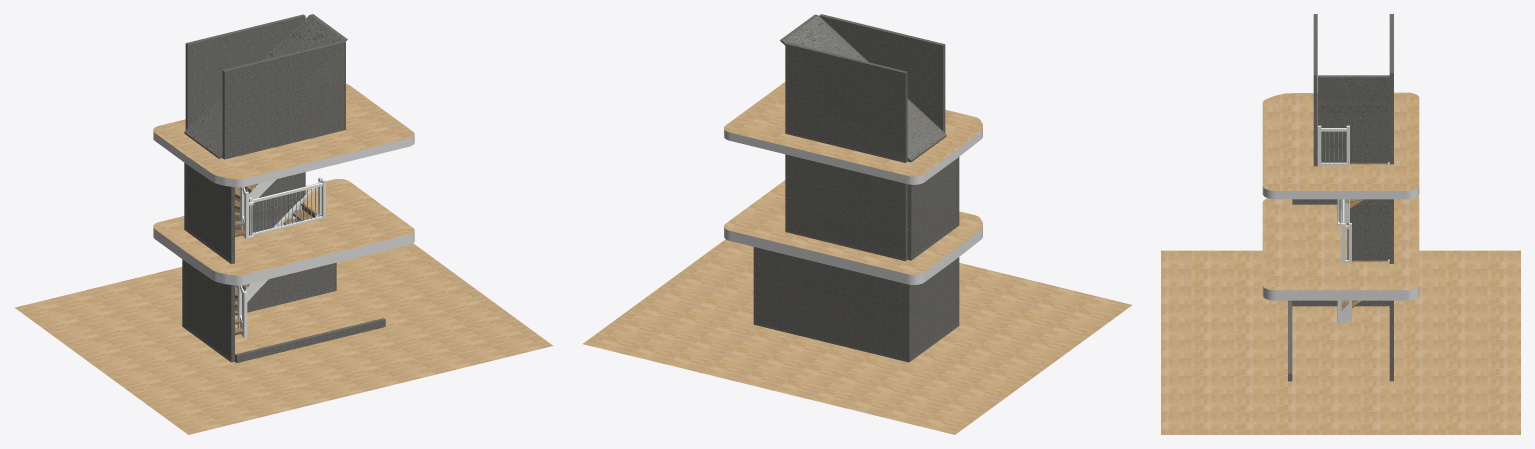
The picture shows the model from 3 angles, left to right: view 1: azimuth 30°, elevation 25°; view 2: azimuth 150°, elevation 25°; view 3: azimuth 270°, elevation 25°; orthographic projection. The views are drawn at different scales.
Parts seen in each view (by area): view 1: _x0023_OBJECT3Dcon_parkett.jpg1111, _x0023_BEGIN_WALLbeton1.jpg1110_x002C_3, _x0023_OBJECT3D0_x002C_90_x002C_90_x002C_91, _x0023_POST0_x002C_980_x002C_980_x002C_951, _x0023_BALUSTERcon_rostf.jpg1111, _x0023_TREADcon_ek.jpg1111; view 2: _x0023_OBJECT3Dcon_parkett.jpg1111, _x0023_BEGIN_WALLbeton1.jpg1110_x002C_3, _x0023_OBJECT3D0_x002C_90_x002C_90_x002C_91; view 3: _x0023_OBJECT3Dcon_parkett.jpg1111, _x0023_BEGIN_WALLbeton1.jpg1110_x002C_3, _x0023_OBJECT3D0_x002C_90_x002C_90_x002C_91, _x0023_POST0_x002C_980_x002C_980_x002C_951, _x0023_BEGIN_OPENINGbeton1.jpg1111, _x0023_TREADcon_ek.jpg1111.
Part boxes in pixels (left/top/right/bottom): _x0023_OBJECT3Dcon_parkett.jpg1111: left=15, top=83, right=552, bottom=434; _x0023_BEGIN_WALLbeton1.jpg1110_x002C_3: left=182, top=14, right=385, bottom=362; _x0023_OBJECT3D0_x002C_90_x002C_90_x002C_91: left=153, top=131, right=414, bottom=285; _x0023_POST0_x002C_980_x002C_980_x002C_951: left=237, top=177, right=325, bottom=337; _x0023_BALUSTERcon_rostf.jpg1111: left=187, top=100, right=319, bottom=320; _x0023_TREADcon_ek.jpg1111: left=235, top=184, right=317, bottom=333; _x0023_OBJECT3Dcon_parkett.jpg1111: left=583, top=82, right=1131, bottom=434; _x0023_BEGIN_WALLbeton1.jpg1110_x002C_3: left=753, top=14, right=959, bottom=362; _x0023_OBJECT3D0_x002C_90_x002C_90_x002C_91: left=724, top=129, right=982, bottom=284; _x0023_OBJECT3Dcon_parkett.jpg1111: left=1161, top=92, right=1520, bottom=434; _x0023_BEGIN_WALLbeton1.jpg1110_x002C_3: left=1288, top=14, right=1393, bottom=381; _x0023_OBJECT3D0_x002C_90_x002C_90_x002C_91: left=1262, top=186, right=1419, bottom=300; _x0023_POST0_x002C_980_x002C_980_x002C_951: left=1318, top=125, right=1351, bottom=323; _x0023_BEGIN_OPENINGbeton1.jpg1111: left=1318, top=105, right=1389, bottom=214; _x0023_TREADcon_ek.jpg1111: left=1341, top=163, right=1387, bottom=310.
Size of the model in its own units: 10.3 by 7.62 by 8.5.
Materials: 12 (7 with a texture image).
